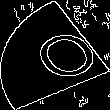O_SE: (12, 22, 98, 88)
